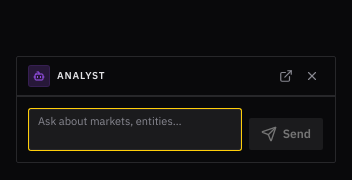
AskAiPanel — error states › shows error message when fetch throws (network failure)
Type "Does this fail?" into the text box with placeholder "Ask about markets, entities…" at [135, 130], box left=29, top=109, right=241, bottom=150
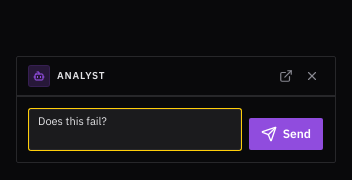
Click the button with aria-label "send message" at [286, 134], box left=249, top=118, right=323, bottom=150
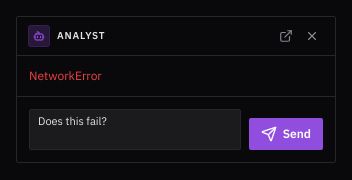
Expected: the text "NetworkError" is shown, left=29, top=68, right=102, bottom=83
